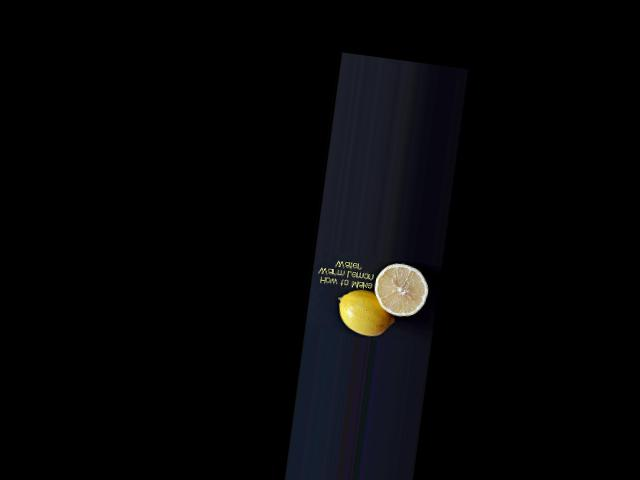lemon: (331, 290, 396, 340)
